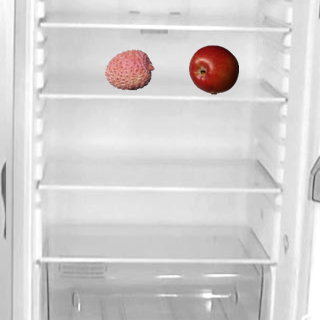Apple Braeburn: (188, 44, 238, 94)
Lychee: (104, 44, 154, 94)
